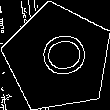O_W: (29, 32, 87, 83)
